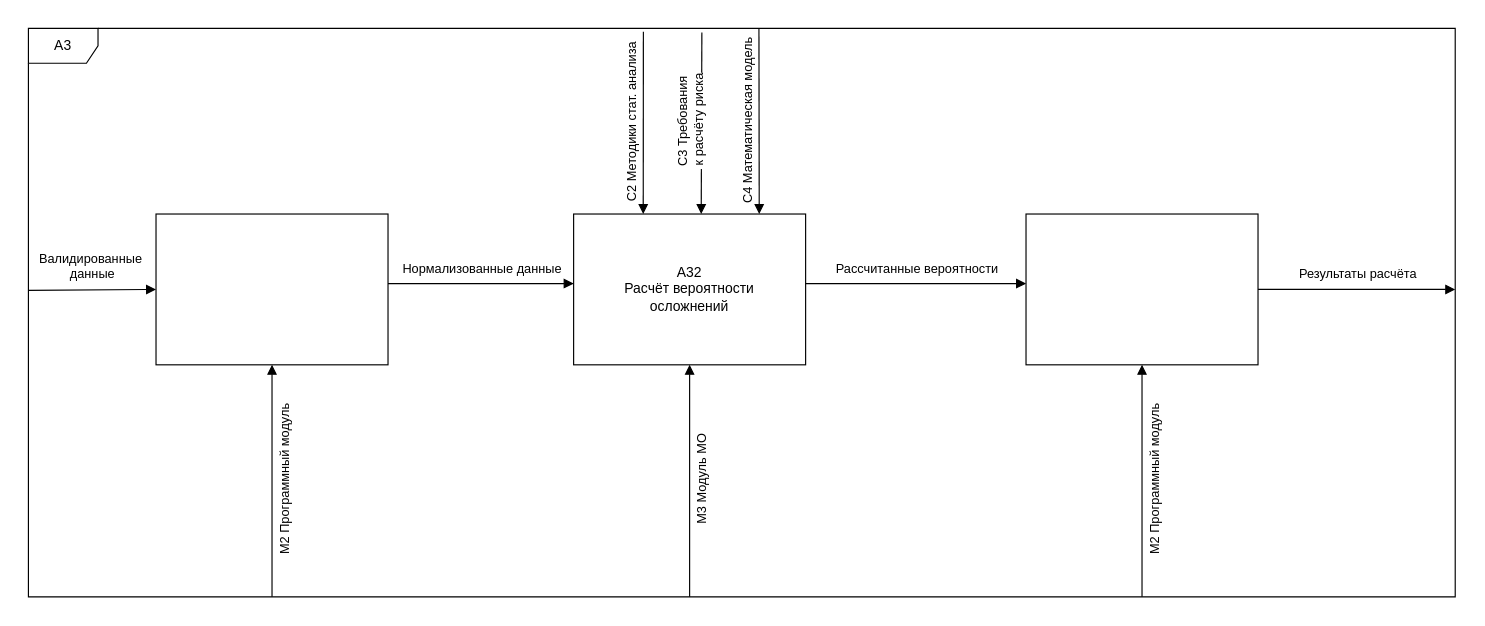
This 1485x626 diagram has some shape labels left out. The shapes that lost their labels are listed below. From the top down, each one's box as (x1, y1, x2, y2) in pixels, then its label:
(155, 213, 388, 365): A31 Нормализация данных
(1025, 213, 1258, 365): A33 Интерпретация результата
